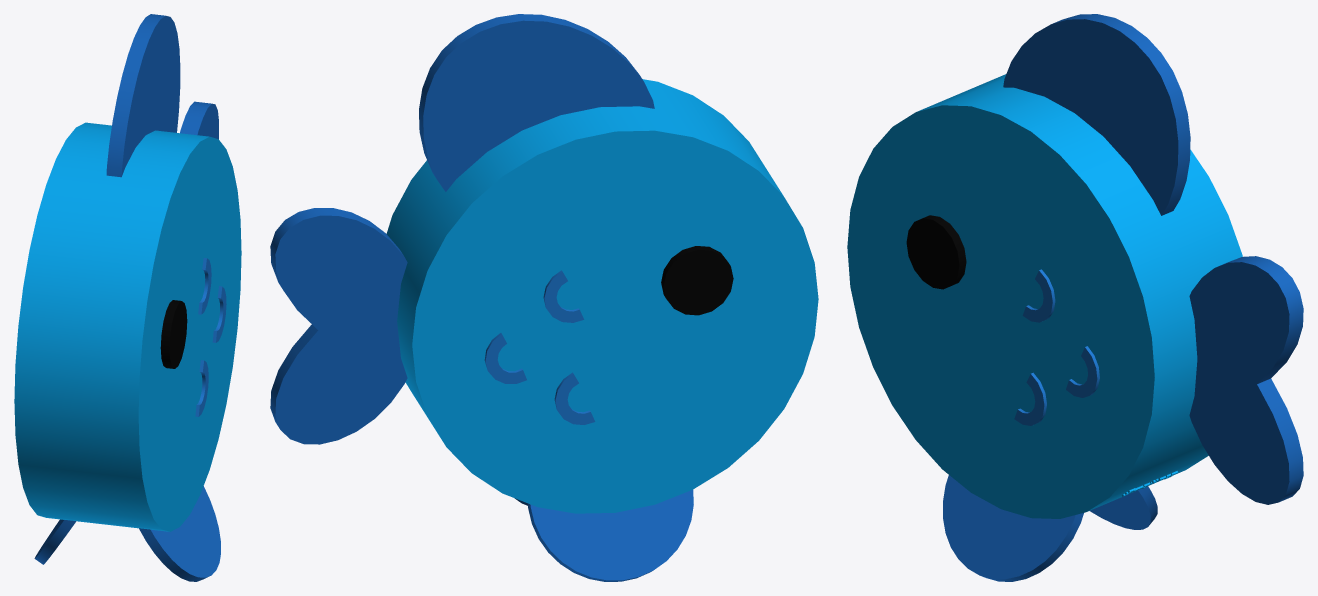
File: fish.fbx
The picture shows the model from 3 angles, left to right: view 1: azimuth 30°, elevation 25°; view 2: azimuth 150°, elevation 25°; view 3: azimuth 270°, elevation 25°; orthographic projection. The views are drawn at different scales.
Visible parts, largest first — view 1: Circle.1964; view 2: Circle.1964; view 3: Circle.1964.
Boxes of the visible parts, x1,y1,x2,y2 form: Circle.1964: (14,14,241,581); Circle.1964: (270,14,818,581); Circle.1964: (847,14,1303,581).
Bounding box in the file's own units: 166 × 223 × 166.
Materials: 1 (1 with a texture image).
